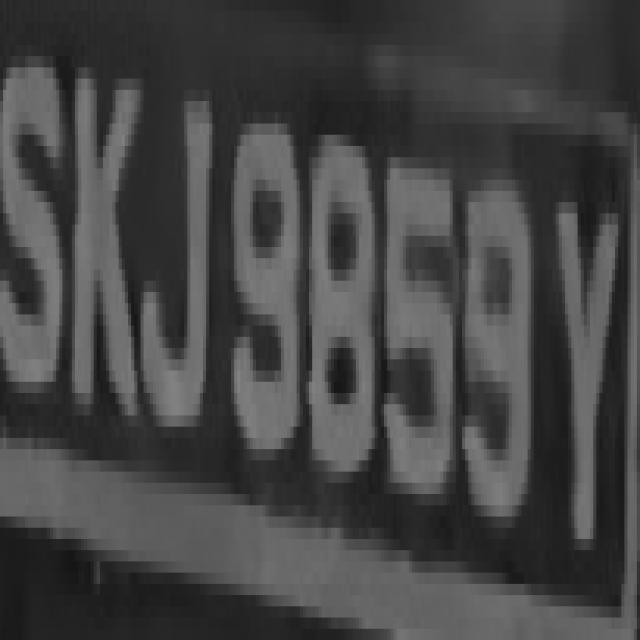5: (372, 101, 452, 539)
8: (293, 90, 378, 516)
9: (228, 79, 303, 516), (459, 135, 534, 561)
J: (134, 45, 219, 471)
K: (66, 34, 138, 438)
S: (3, 12, 66, 460)
Y: (540, 123, 628, 572)
